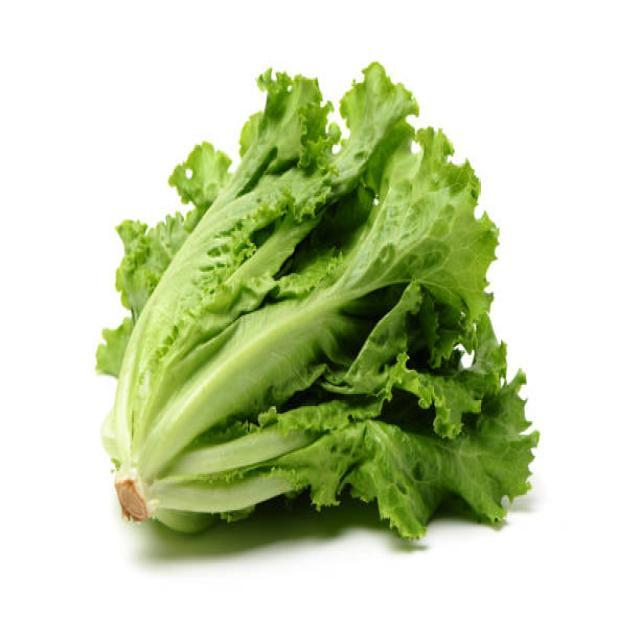Lettuce-Ready-to-Harvest: (99, 65, 538, 538)
